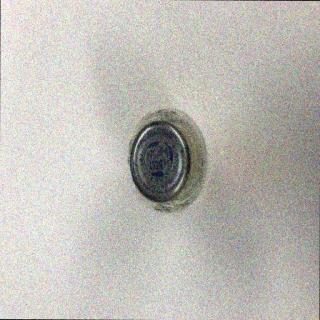METAL: (128, 122, 191, 206)
